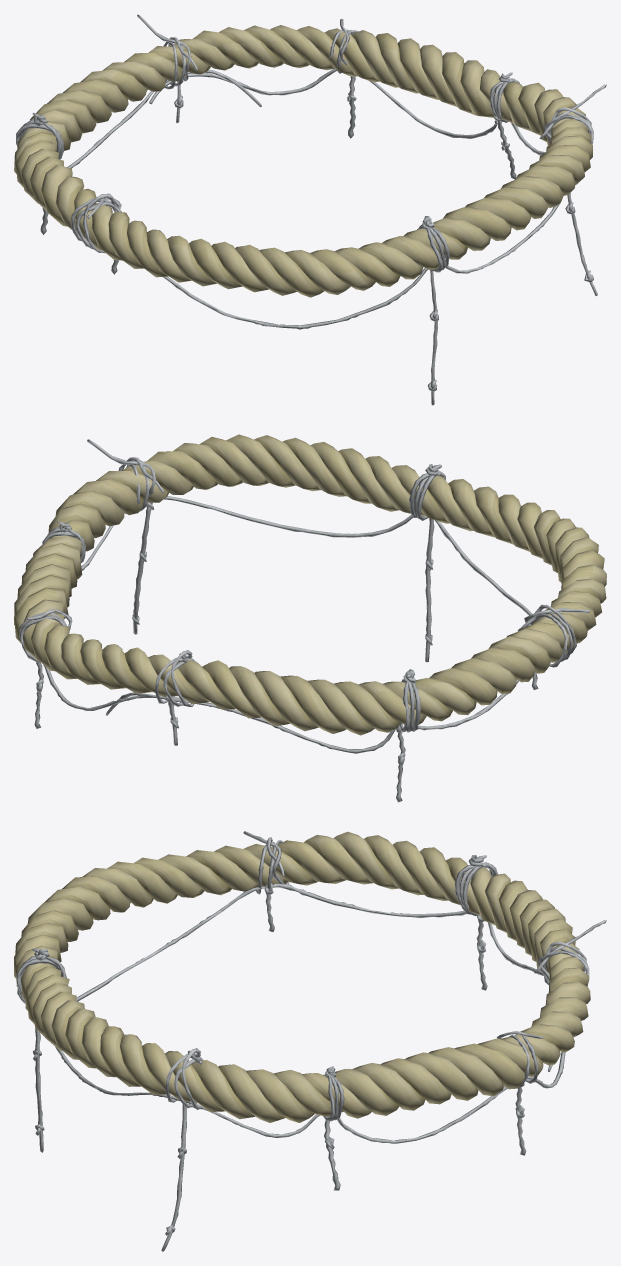
Rendered from SM_ENV_KNFRST_StrawRope_H.FBX.
The picture shows the model from 3 angles, top to bottom: view 1: azimuth 30°, elevation 25°; view 2: azimuth 150°, elevation 25°; view 3: azimuth 270°, elevation 25°; orthographic projection. The views are drawn at different scales.
Visible parts, largest first — view 1: SM_ENV_KNFRST_StrawRope_H; view 2: SM_ENV_KNFRST_StrawRope_H; view 3: SM_ENV_KNFRST_StrawRope_H.
Part boxes in pixels (x1,y1,x2,y2): SM_ENV_KNFRST_StrawRope_H: (14,14,606,405); SM_ENV_KNFRST_StrawRope_H: (14,434,606,802); SM_ENV_KNFRST_StrawRope_H: (14,831,606,1251).
Bounding box in the file's own units: 1112 × 439 × 1075.
